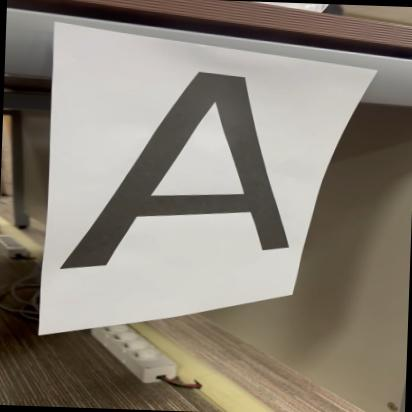seat: (57, 54, 304, 292)
